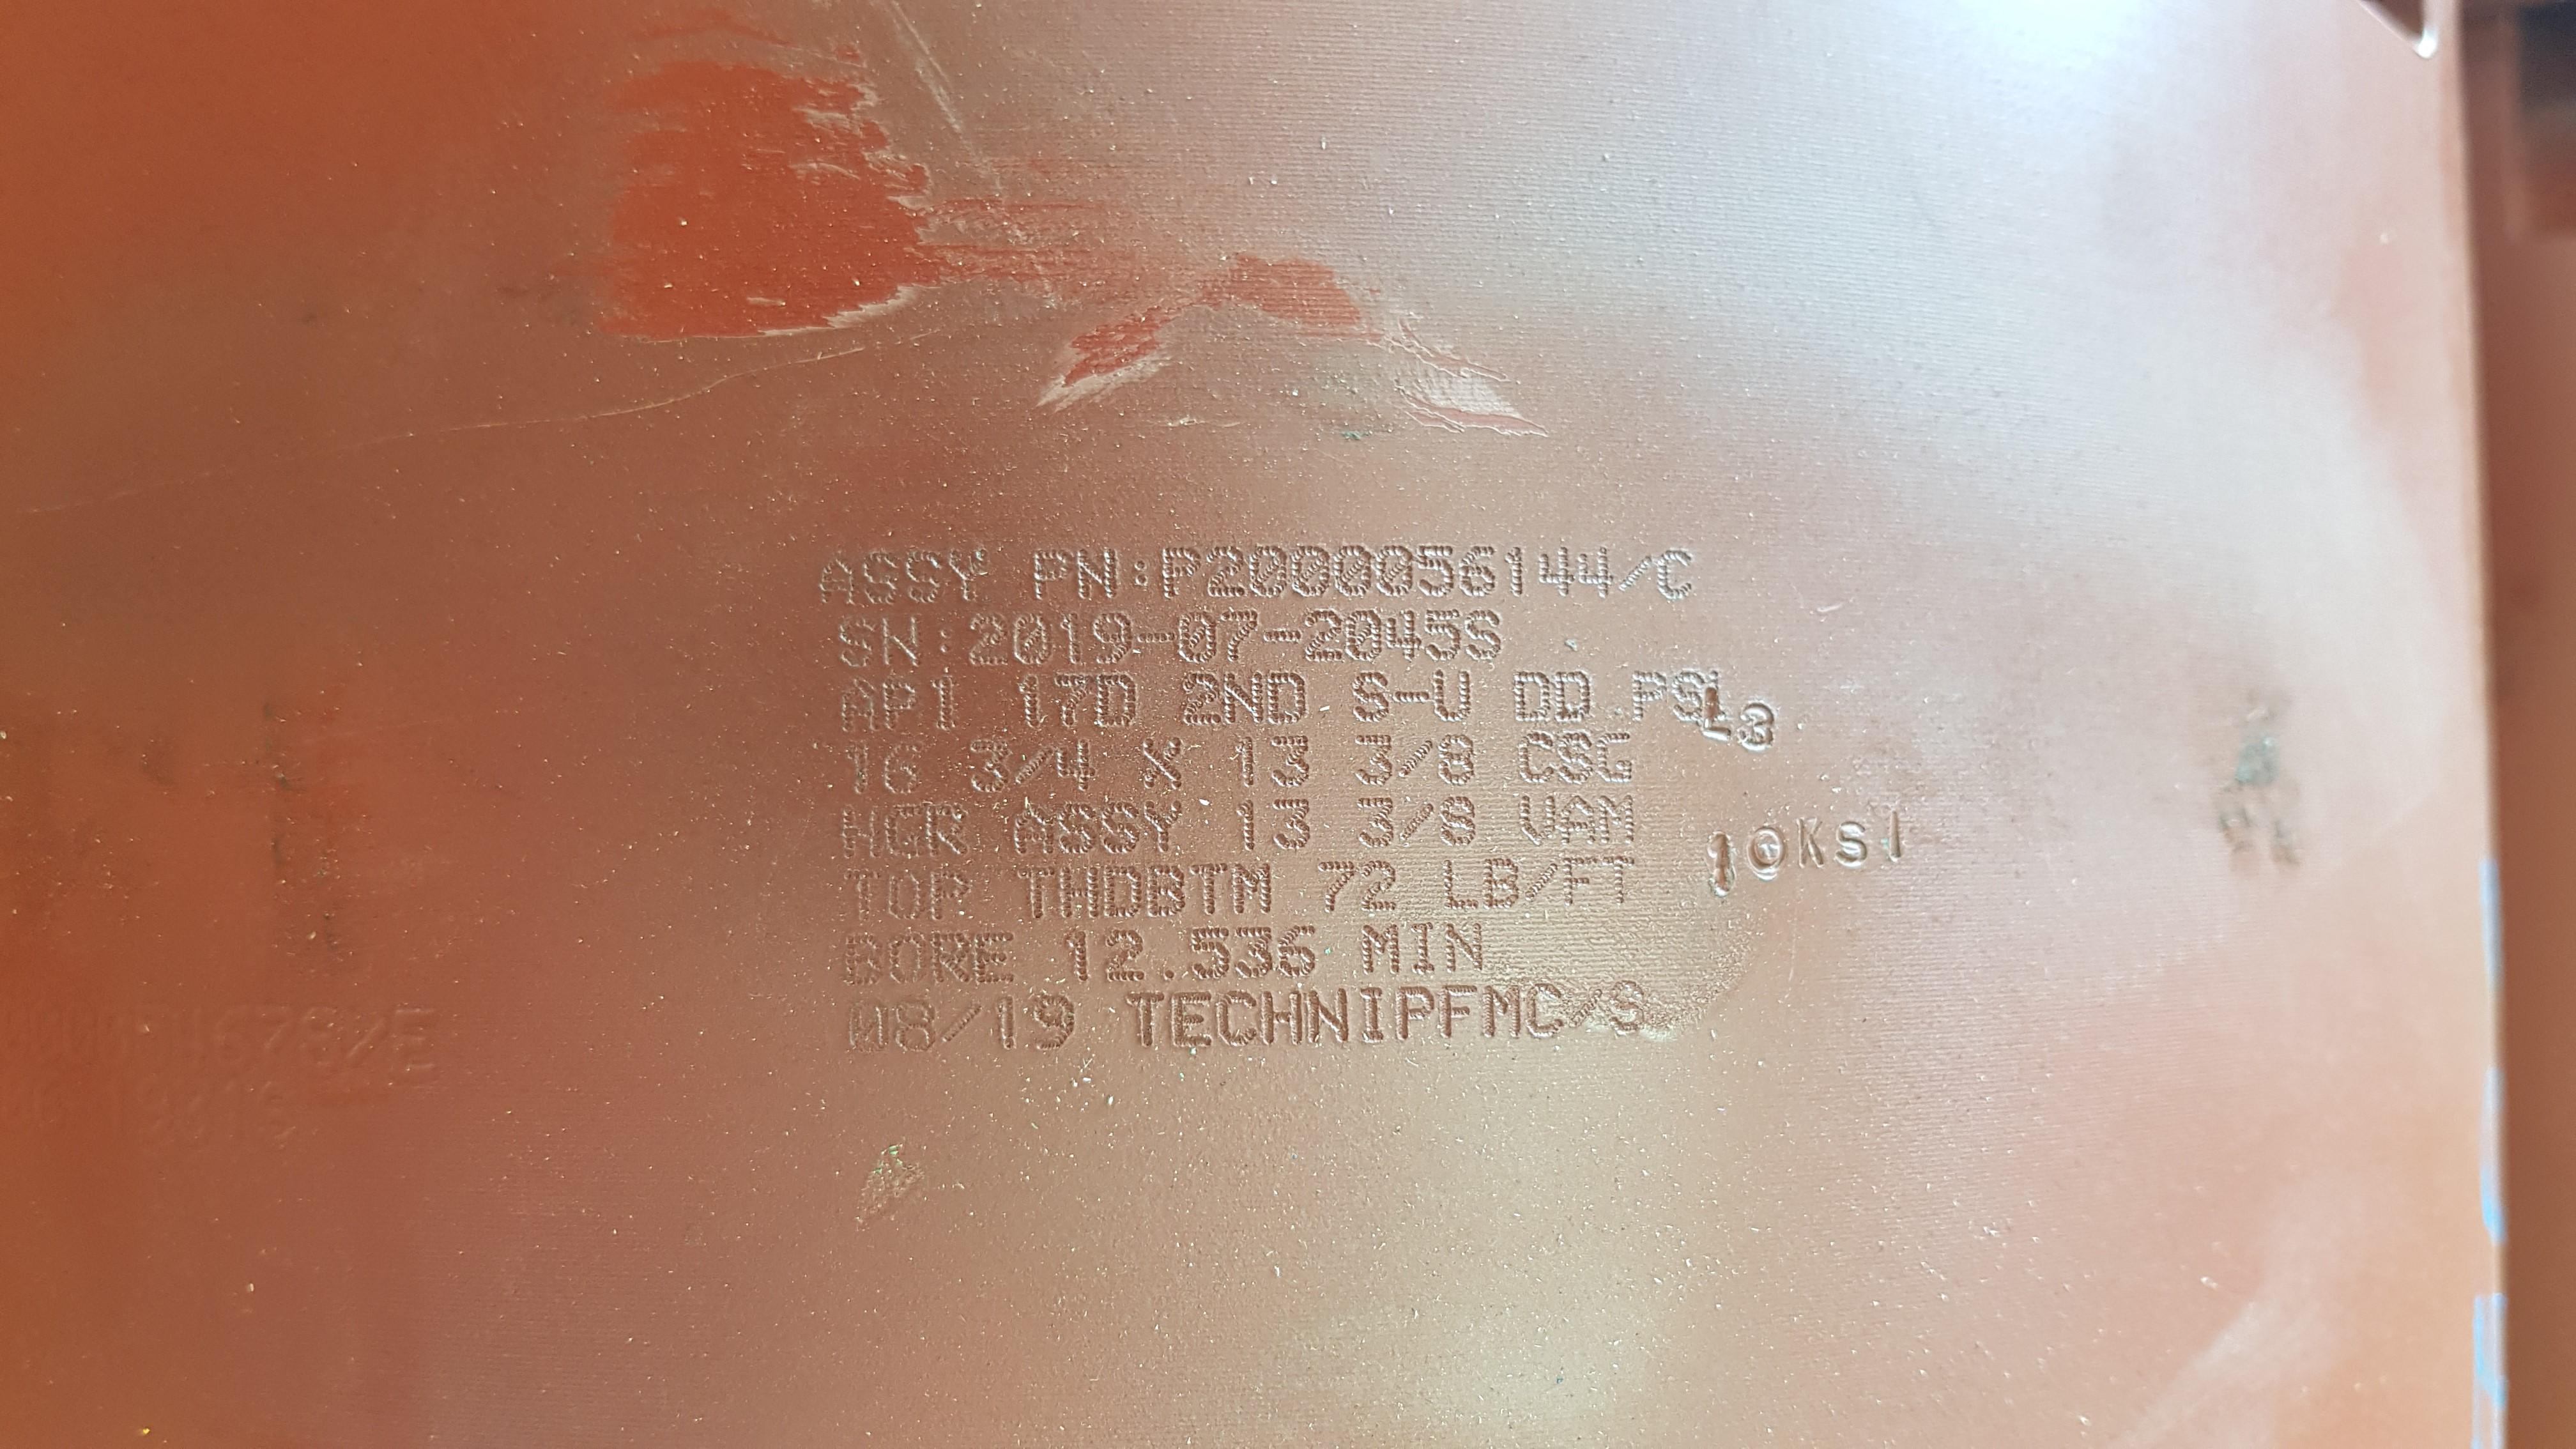character: (939, 543, 996, 609), (876, 612, 929, 678), (1005, 607, 1060, 667), (832, 676, 883, 740), (1182, 922, 1233, 985), (1166, 991, 1215, 1056), (1267, 734, 1322, 793), (966, 607, 1012, 676), (1329, 536, 1378, 600), (1035, 991, 1083, 1056), (1606, 975, 1654, 1040), (1201, 538, 1247, 605), (1028, 541, 1076, 605), (1217, 667, 1265, 731), (837, 800, 885, 863), (847, 994, 895, 1058), (879, 740, 925, 805), (899, 547, 948, 607), (924, 801, 973, 862), (1175, 607, 1223, 669), (1304, 985, 1352, 1047), (876, 676, 922, 740), (1072, 541, 1122, 600), (1594, 727, 1644, 786), (812, 547, 860, 607), (842, 934, 888, 996), (1099, 796, 1143, 860), (973, 927, 1017, 991), (839, 865, 886, 924), (1231, 855, 1279, 913), (1286, 540, 1332, 600), (1090, 609, 1136, 669), (1265, 665, 1311, 725), (964, 738, 1010, 798), (1511, 727, 1557, 787), (1056, 862, 1102, 922), (1415, 538, 1460, 600), (1097, 672, 1141, 734), (1012, 862, 1056, 924), (1106, 925, 1150, 987), (893, 994, 938, 1056), (1438, 922, 1488, 977), (1460, 536, 1502, 600), (1553, 731, 1601, 787), (1479, 853, 1527, 909), (1247, 540, 1293, 598), (835, 612, 881, 671), (925, 869, 971, 927), (1674, 667, 1714, 732), (1399, 984, 1440, 1049), (1573, 543, 1617, 603), (1051, 671, 1095, 731), (927, 927, 971, 987), (1125, 991, 1169, 1051), (886, 867, 929, 929), (1270, 796, 1318, 851), (1548, 665, 1594, 722), (1626, 665, 1672, 722), (1139, 734, 1185, 791), (1102, 862, 1148, 918), (1056, 800, 1097, 863), (1161, 545, 1205, 603), (1010, 801, 1054, 860), (1654, 541, 1697, 602), (1591, 796, 1644, 844), (1359, 924, 1407, 977), (1534, 545, 1580, 600), (931, 678, 966, 748), (1511, 669, 1555, 725), (1141, 800, 1185, 856), (863, 545, 901, 612), (1435, 731, 1477, 789), (1483, 985, 1525, 1044), (1224, 736, 1265, 796), (1219, 989, 1260, 1049), (1428, 667, 1474, 720), (1353, 731, 1399, 784), (1378, 536, 1415, 602), (1054, 607, 1093, 669), (1302, 609, 1345, 665), (1382, 609, 1424, 665), (1182, 672, 1224, 729), (1352, 669, 1394, 725), (1010, 738, 1054, 791), (1051, 738, 1095, 791), (1525, 985, 1569, 1039), (1426, 603, 1465, 663), (886, 801, 925, 862), (1518, 793, 1560, 847), (1235, 925, 1277, 980), (1739, 697, 1778, 755), (892, 929, 931, 987), (1221, 607, 1263, 660), (1463, 607, 1506, 660), (1277, 924, 1320, 977), (1605, 851, 1642, 911), (1150, 863, 1191, 918), (1316, 860, 1357, 915), (1345, 607, 1384, 663), (1361, 855, 1399, 911), (987, 1000, 1026, 1056), (1357, 793, 1399, 844), (1261, 987, 1304, 1039), (1194, 860, 1231, 918), (1440, 860, 1481, 913), (1016, 672, 1051, 732), (842, 740, 878, 800), (1442, 985, 1483, 1037), (1231, 798, 1267, 856), (1359, 985, 1391, 1049), (1440, 791, 1477, 844), (1560, 853, 1594, 911), (1619, 548, 1654, 600), (1065, 927, 1095, 985), (1562, 793, 1596, 844), (1399, 800, 1438, 844), (1398, 738, 1435, 784), (1504, 538, 1532, 598), (1408, 922, 1437, 978), (1132, 628, 1180, 651), (1263, 619, 1300, 646), (1398, 685, 1433, 711)
